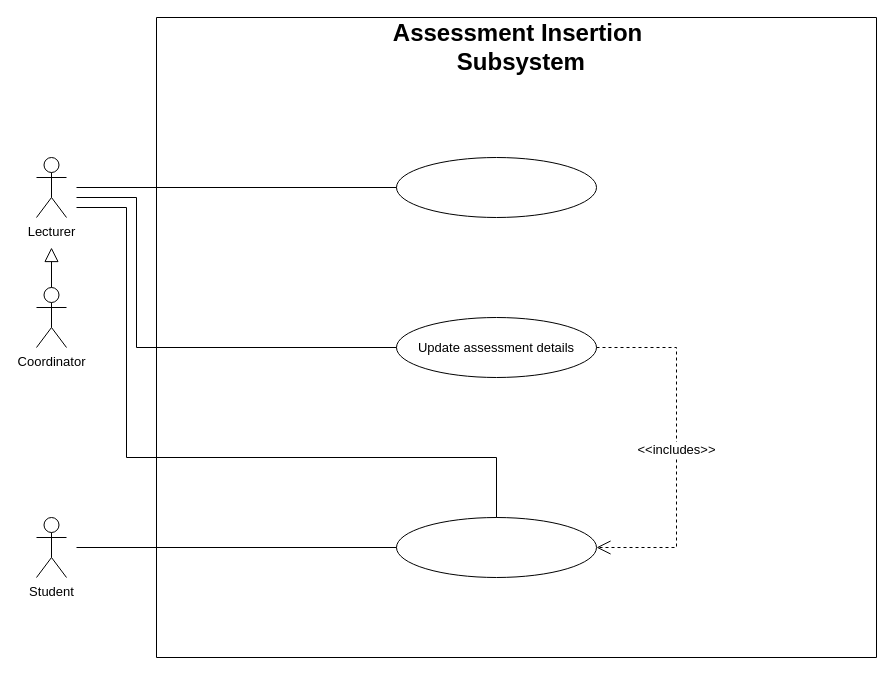
This 894x675 diagram has some shape labels left out. The centre of each missing label's shape, as x and y in pixels:
"Insert assessment details" goes at (496,187).
"View assessment details" goes at (496,547).
